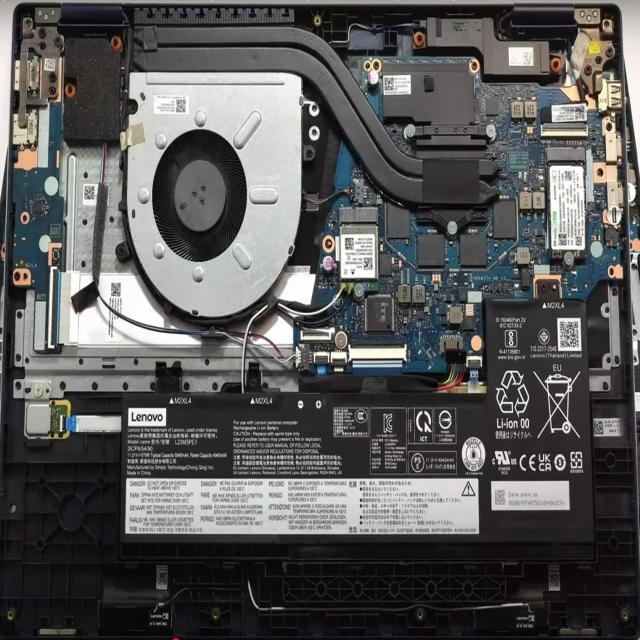Battery: (545, 148, 588, 266)
RAM: (124, 392, 594, 544)
